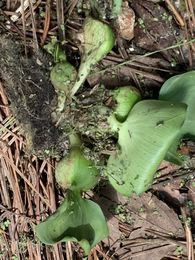water_hyacinth: (39, 5, 195, 241)
